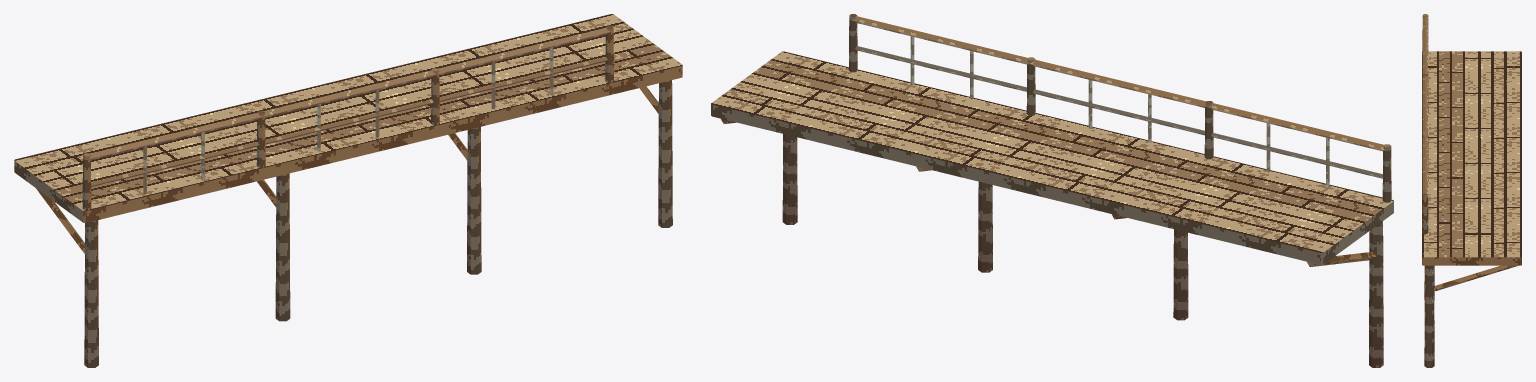
The model's file is wtown.gallery.glb.
3 renders of one model, left to right at view 1: azimuth 30°, elevation 25°; view 2: azimuth 150°, elevation 25°; view 3: azimuth 270°, elevation 25°, orthographic. The views are drawn at different scales.
Parts seen in each view (by area): view 1: kit_deck, kit_railing, kit_posts, kit_braces; view 2: kit_deck, kit_railing, kit_posts, kit_braces; view 3: kit_deck, kit_railing, kit_posts, kit_braces.
Boxes of the visible parts, bbox=[...] form: kit_deck: bbox=[14, 14, 682, 222]; kit_railing: bbox=[82, 25, 613, 210]; kit_posts: bbox=[84, 80, 672, 367]; kit_braces: bbox=[36, 86, 658, 253]; kit_deck: bbox=[711, 51, 1393, 264]; kit_railing: bbox=[848, 14, 1391, 202]; kit_posts: bbox=[782, 134, 1383, 367]; kit_braces: bbox=[721, 119, 1376, 266]; kit_deck: bbox=[1422, 51, 1521, 265]; kit_railing: bbox=[1422, 14, 1428, 233]; kit_posts: bbox=[1424, 265, 1434, 367]; kit_braces: bbox=[1434, 265, 1517, 291].
Size of the model in its own units: 11.72 by 4.01 by 2.4.
Materials: 4 (4 with a texture image).
